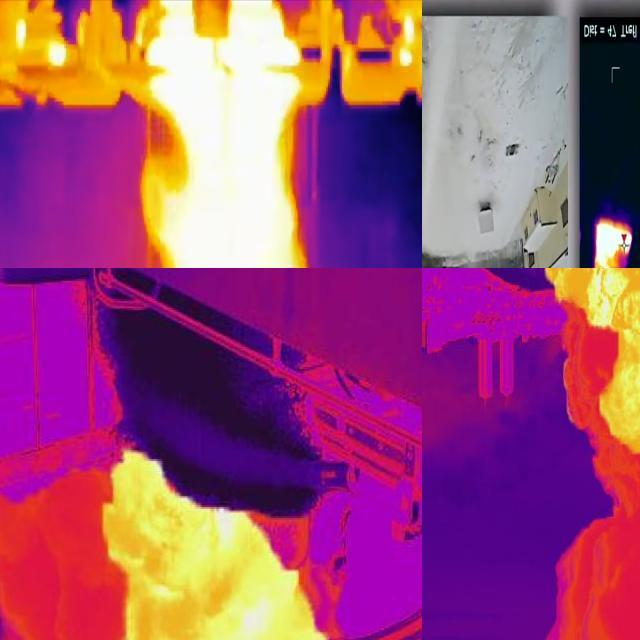fire: (96, 443, 356, 640), (144, 1, 309, 269), (545, 268, 640, 466), (13, 20, 76, 71), (587, 219, 633, 269), (393, 13, 420, 75)
